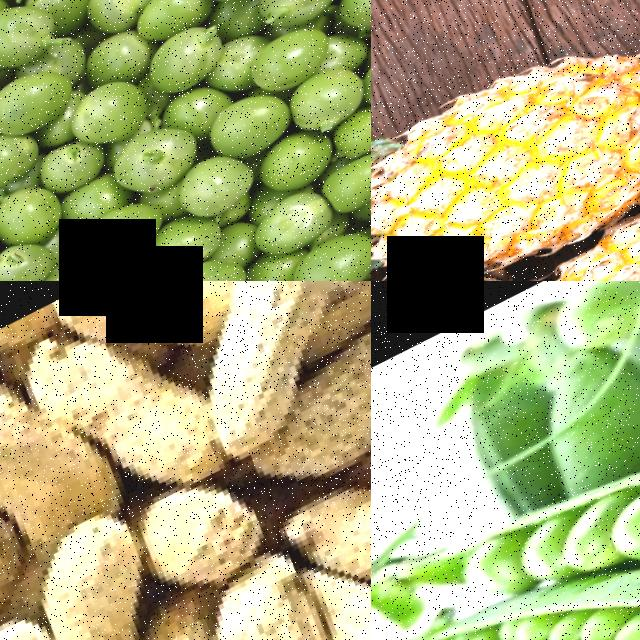peanuts: (72, 339, 239, 519), (0, 504, 213, 640), (0, 365, 139, 571), (124, 473, 281, 620), (186, 281, 371, 388), (46, 281, 227, 373), (281, 448, 371, 619), (0, 504, 62, 640)
peas: (0, 0, 371, 281), (432, 337, 640, 640)
pineapple: (371, 0, 640, 281), (491, 152, 640, 281)
